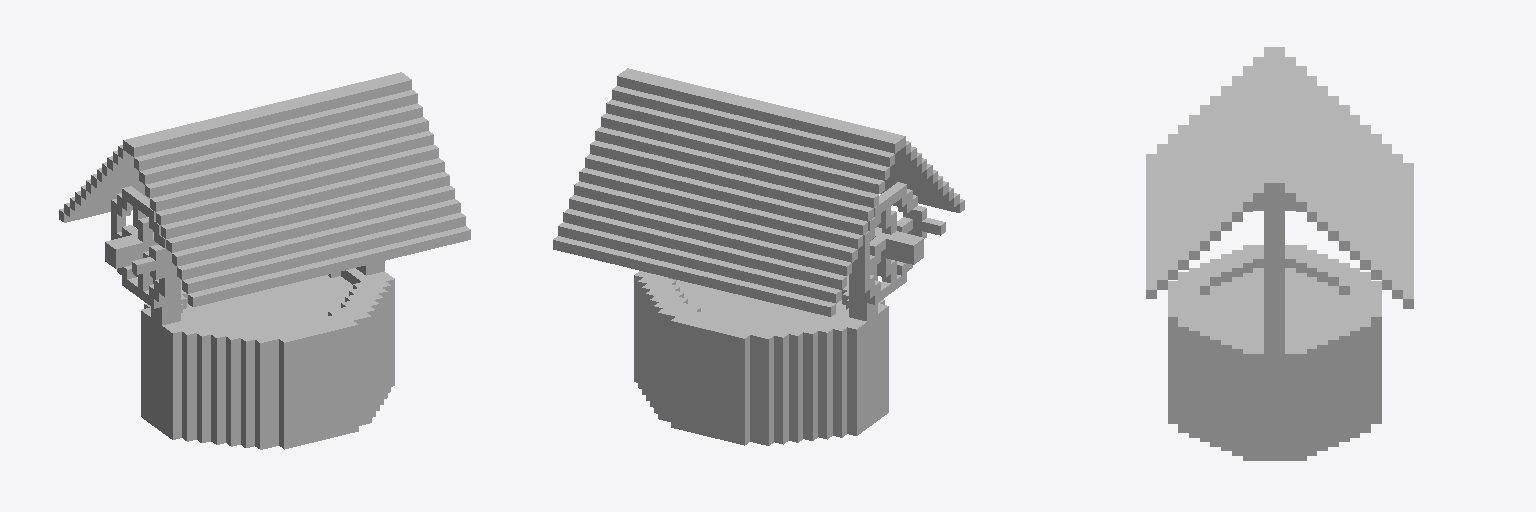
File: GoldenWaterWell.obj
3 renders of one model, left to right at view 1: azimuth 30°, elevation 25°; view 2: azimuth 150°, elevation 25°; view 3: azimuth 270°, elevation 25°, orthographic.
Parts seen in each view (by area): view 1: object 1; view 2: object 1; view 3: object 1.
Part boxes in pixels (x1,y1,x2,y2): object 1: (59,72,470,449); object 1: (553,68,964,445); object 1: (1146,47,1413,460).
Size of the model in its own units: 3.2 by 3 by 2.5.